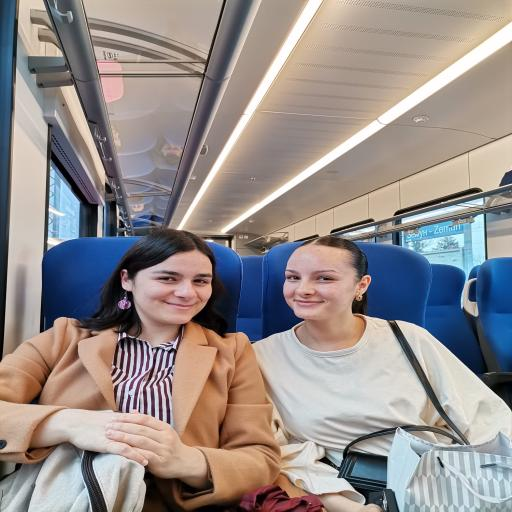marija: (282, 247, 366, 322)
